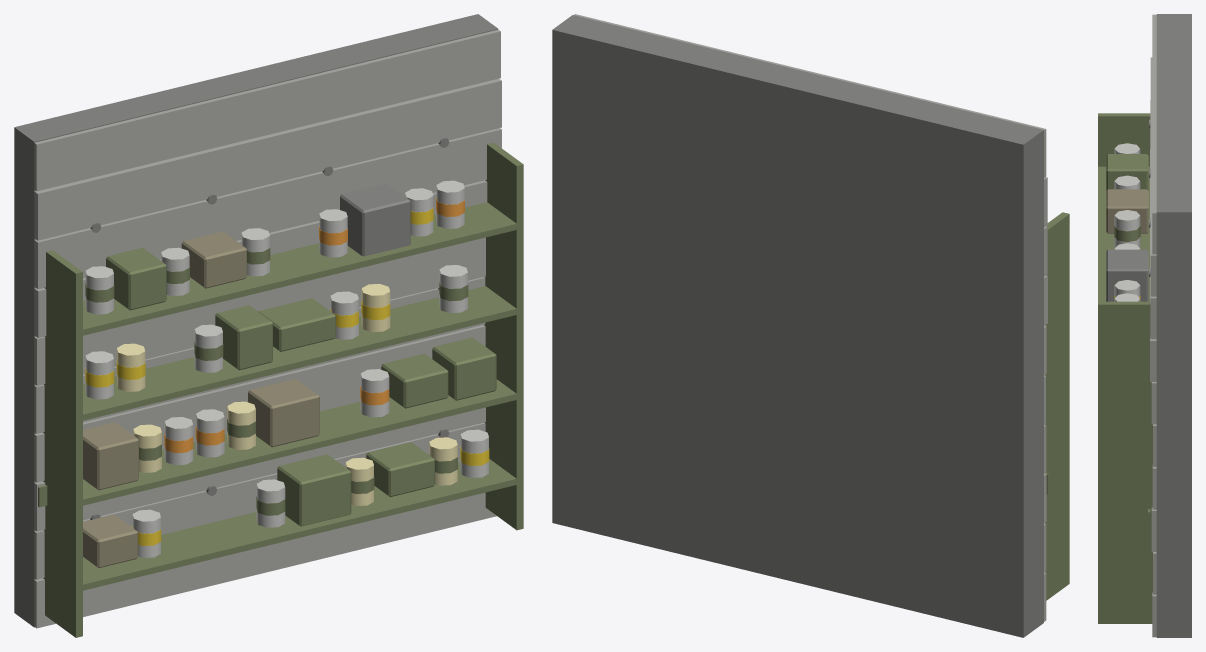
The model's file is wall_bk_shelves.glb.
The picture shows the model from 3 angles, left to right: view 1: azimuth 30°, elevation 25°; view 2: azimuth 150°, elevation 25°; view 3: azimuth 270°, elevation 25°; orthographic projection. The views are drawn at different scales.
Parts seen in each view (by area): view 1: wall_bk_shelves; view 2: wall_bk_shelves; view 3: wall_bk_shelves.
Part boxes in pixels (box(x1,y1,x2,y2)): wall_bk_shelves: box(14, 14, 523, 637); wall_bk_shelves: box(552, 14, 1069, 637); wall_bk_shelves: box(1098, 14, 1191, 637).
Size of the model in its own units: 4 by 4 by 0.8.
